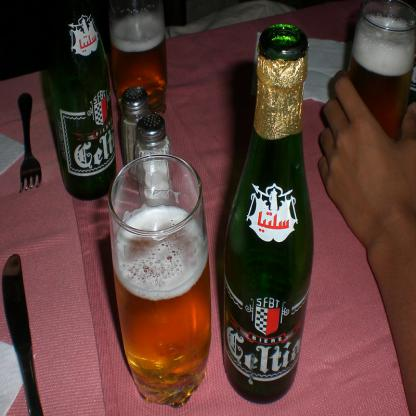drinking: (224, 23, 314, 404), (108, 154, 212, 408), (46, 0, 117, 200), (347, 0, 415, 169), (107, 0, 168, 113)
